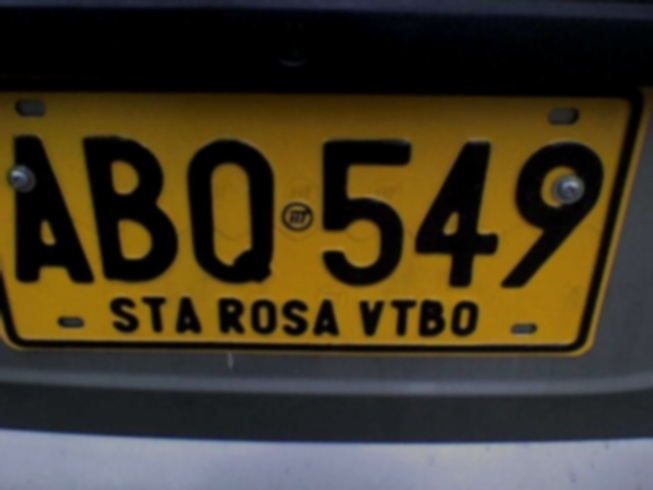placas: (1, 73, 648, 358)
